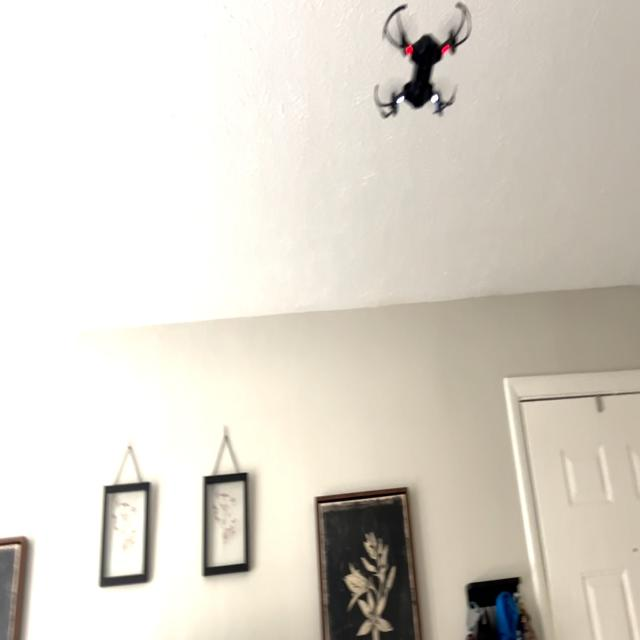drone: (365, 0, 482, 135)
